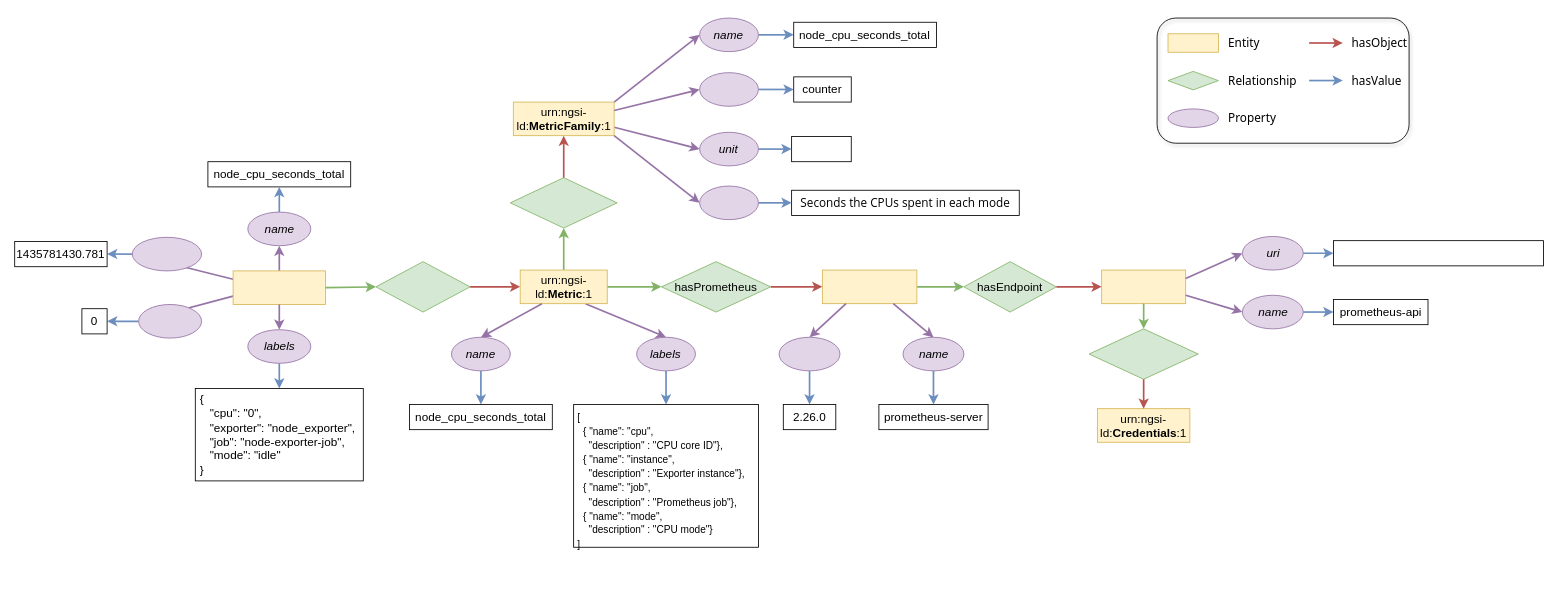
The diagram is 1558 pixels wide and 595 high, and some of its shapes have lost their labels. The shapes that lost their labels are listed below. From the top down, each one's centre as x and y in pixels, then its label:
point (728, 89): type
point (821, 149): seconds
point (563, 202): hasMetricFamily
point (728, 202): help
point (166, 253): timestamp
point (1438, 253): https://prometheus:9090/api/v1/query
point (279, 287): urn:ngsi-ld: TimeSeries :1
point (422, 286): hasMetric
point (869, 286): urn:ngsi-ld: Prometheus :1
point (1143, 286): urn:ngsi-ld: Endpoint :1
point (170, 321): value
point (809, 353): version
point (1143, 353): hasCredentials
